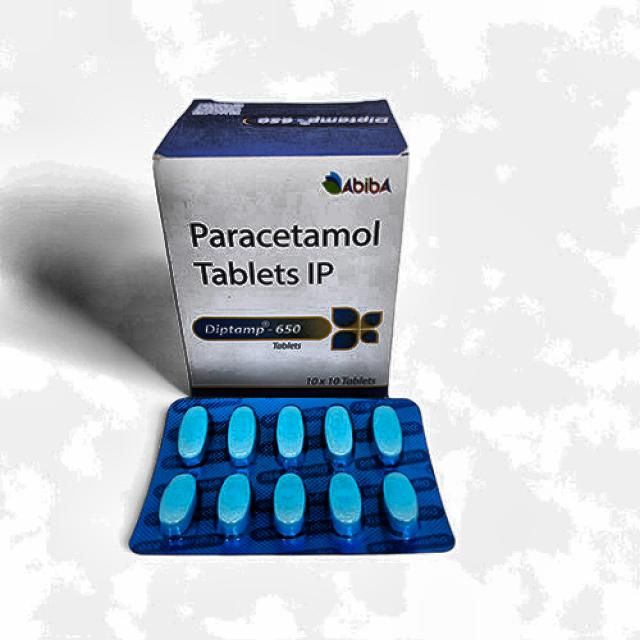Paracetamol: (172, 205, 392, 344)
